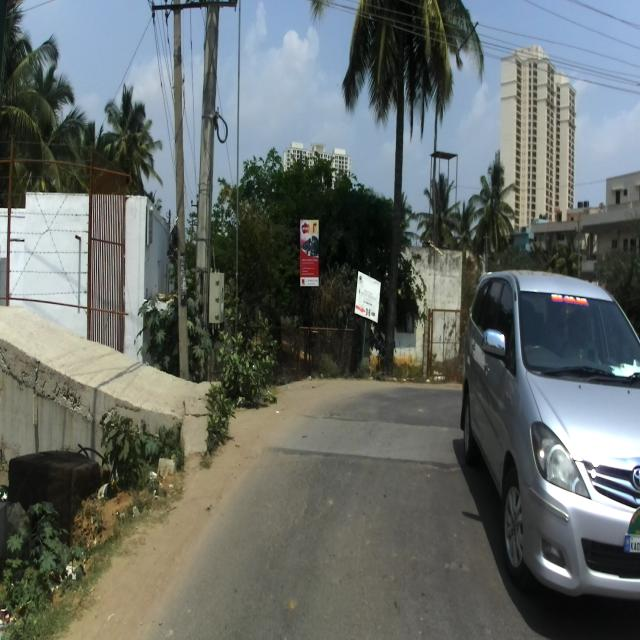car ahead at: (465, 269, 640, 601)
electric pole ahead at: (165, 0, 199, 376)
